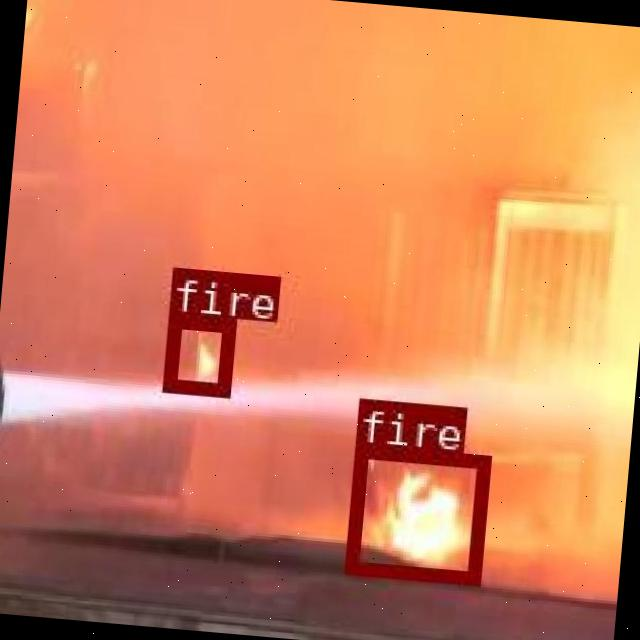fire: (342, 442, 488, 582), (163, 310, 233, 392)
